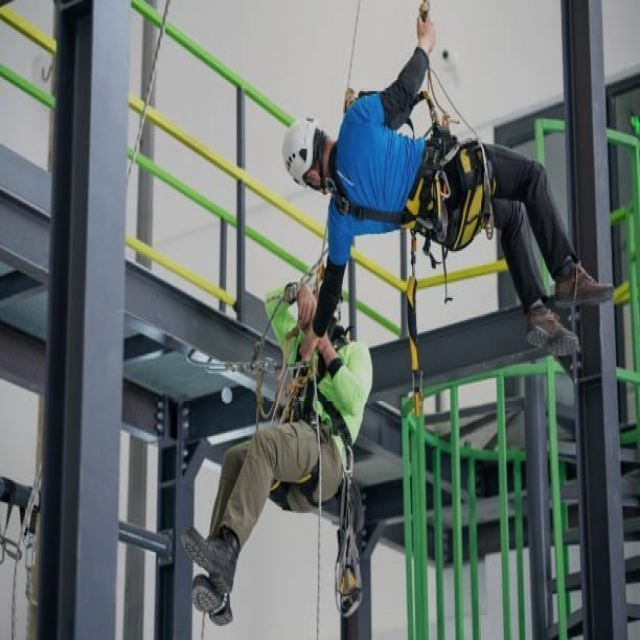safety belt: (316, 148, 504, 252), (286, 317, 371, 484)
